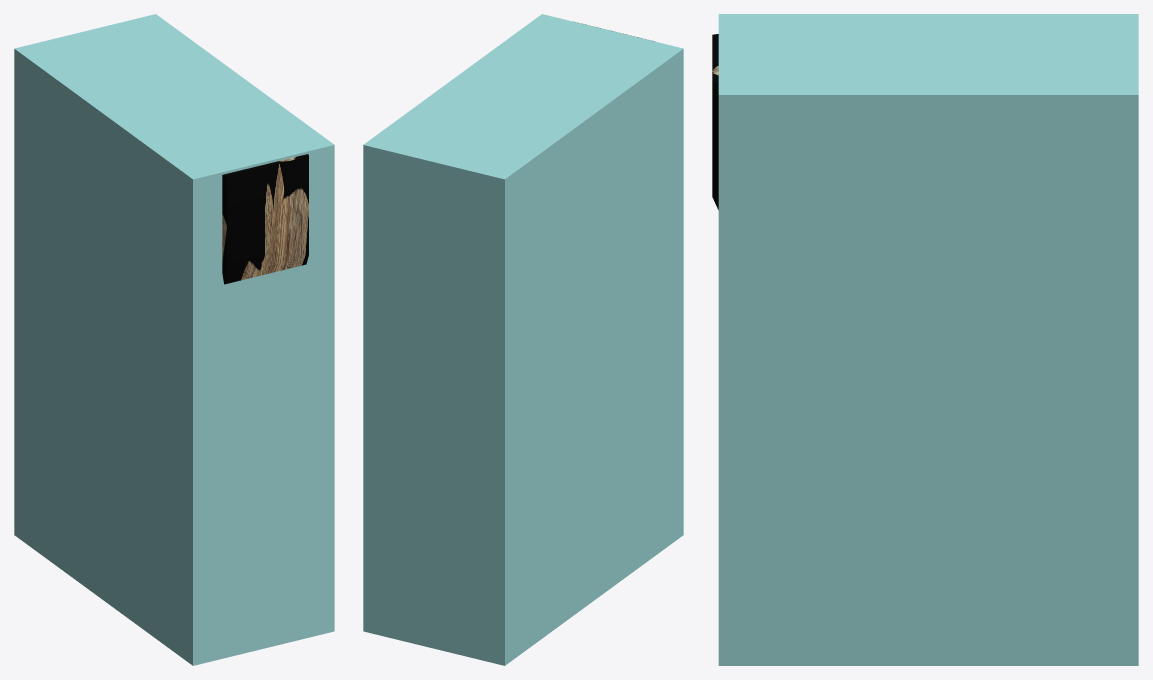
Rendered from rock_tower_3.DAE.
3 renders of one model, left to right at view 1: azimuth 30°, elevation 25°; view 2: azimuth 150°, elevation 25°; view 3: azimuth 270°, elevation 25°, orthographic. The views are drawn at different scales.
Visible parts, largest first — view 1: bounds, col-3; view 2: bounds; view 3: bounds, col-3.
Boxes of the visible parts, <box> form: bounds: <box>14,14,334,665</box>; col-3: <box>222,154,308,284</box>; bounds: <box>363,14,683,665</box>; bounds: <box>718,14,1138,665</box>; col-3: <box>712,34,718,209</box>.
Bounding box in the file's own units: 8.44 × 18.74 × 27.7.
